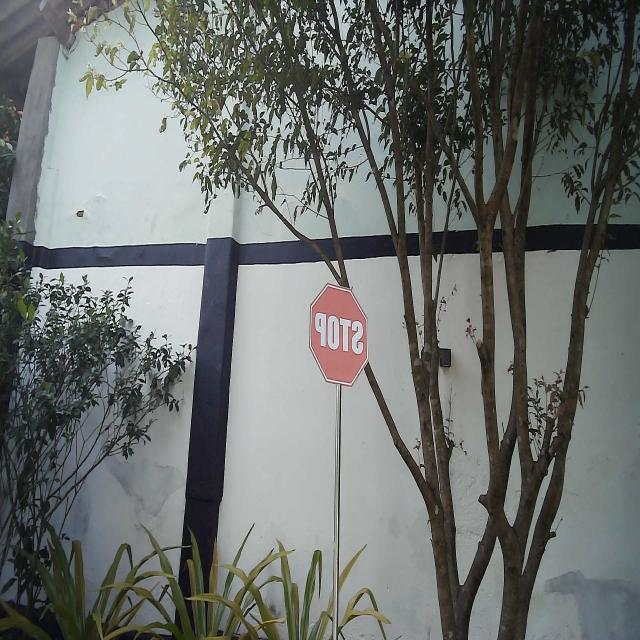stop: (307, 280, 370, 390)
